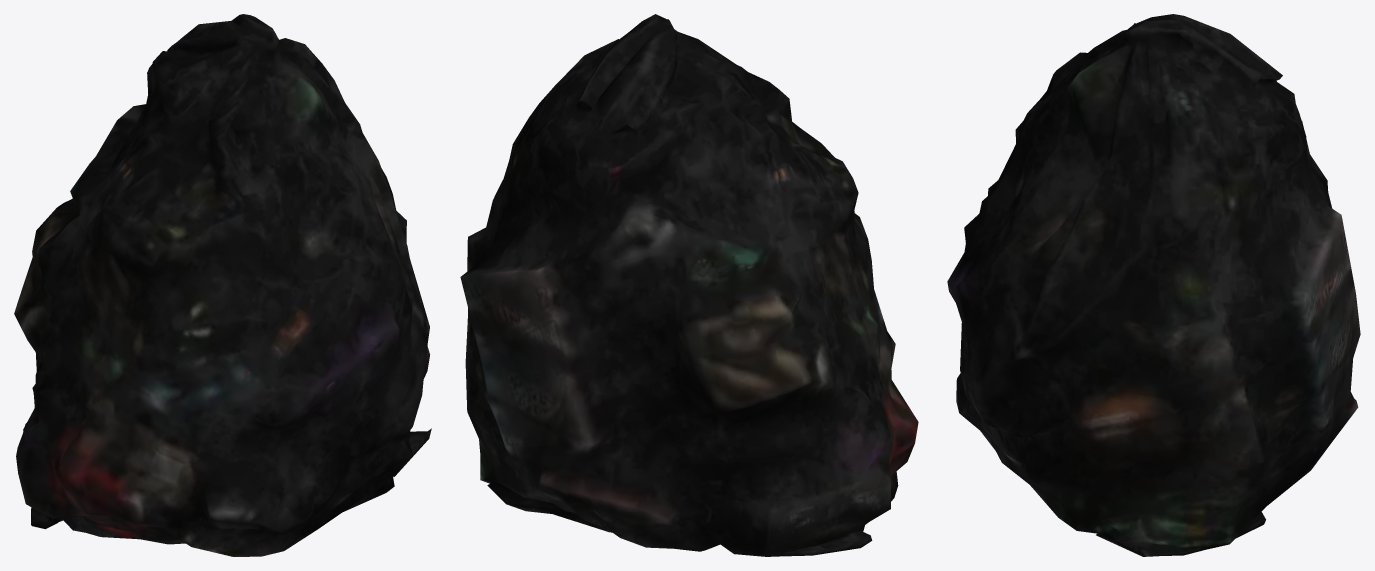
Rendered from sac_poubelle_lod0.glb.
3 renders of one model, left to right at view 1: azimuth 30°, elevation 25°; view 2: azimuth 150°, elevation 25°; view 3: azimuth 270°, elevation 25°, orthographic. The views are drawn at different scales.
Parts seen in each view (by area): view 1: trashbag; view 2: trashbag; view 3: trashbag.
Part boxes in pixels (x1=…): trashbag: x1=14, y1=14, x2=431, y2=556; trashbag: x1=460, y1=14, x2=918, y2=556; trashbag: x1=947, y1=14, x2=1360, y2=556.
Bounding box in the file's own units: 0.5281 × 0.5731 × 0.4629.
1 material, 1 textured.
